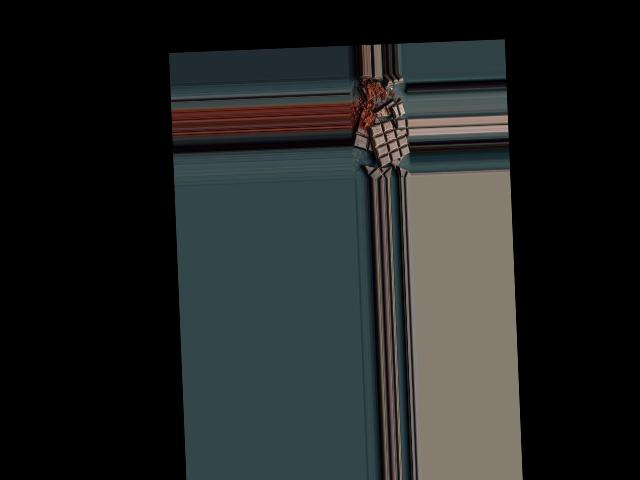chocolate: (369, 120, 410, 168)
